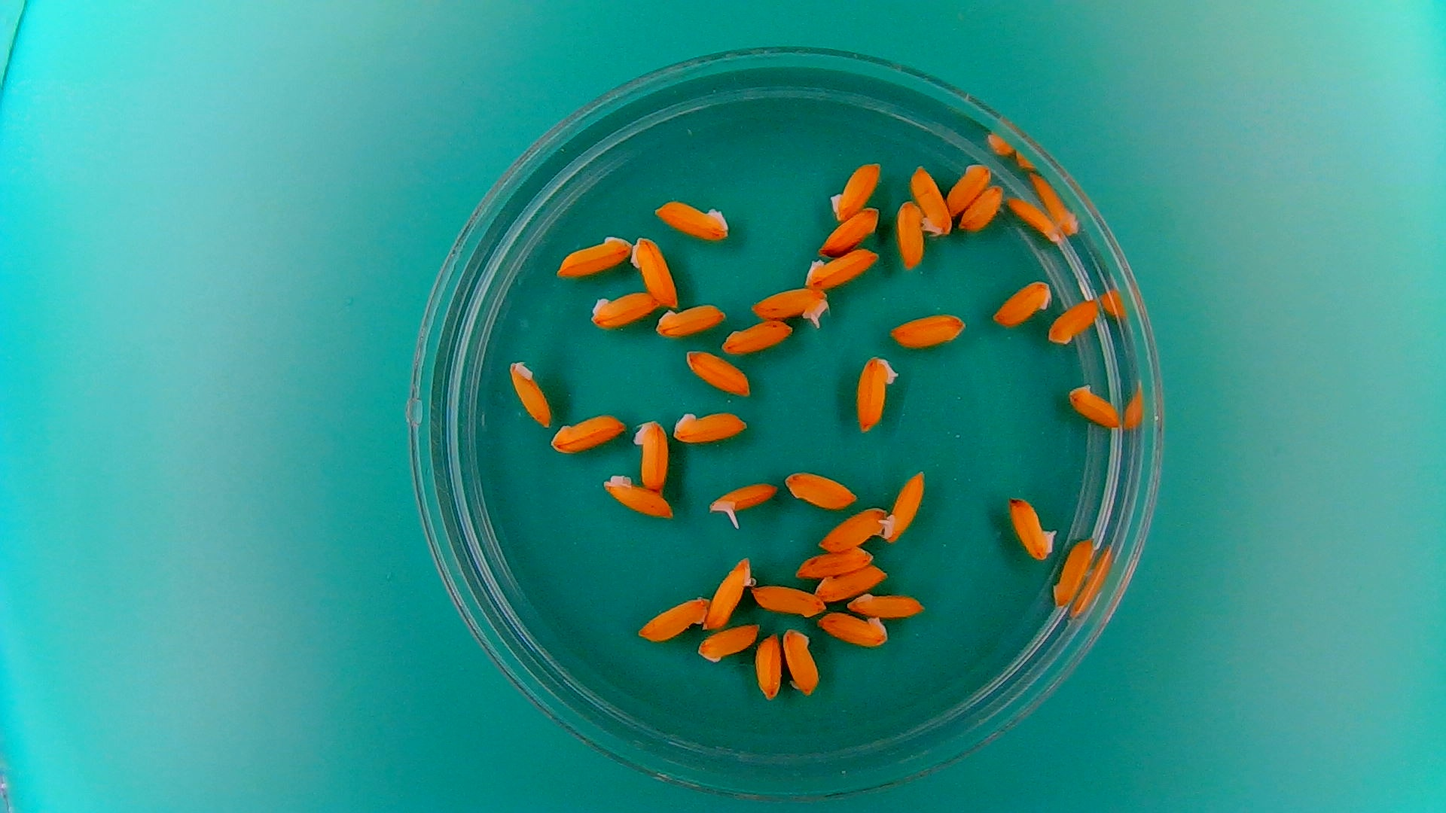no: (701, 553, 756, 632), (1004, 490, 1059, 562), (554, 230, 633, 280), (853, 350, 900, 434), (598, 470, 676, 520), (633, 592, 709, 643), (650, 195, 732, 242), (630, 233, 679, 309), (548, 410, 628, 455), (802, 245, 882, 290), (506, 355, 554, 429), (828, 157, 883, 221), (818, 504, 888, 554), (682, 347, 752, 397), (816, 203, 882, 255), (1051, 534, 1097, 608), (886, 309, 969, 350), (782, 467, 859, 510), (991, 276, 1054, 328), (908, 161, 951, 237), (669, 406, 752, 445), (1004, 192, 1065, 245), (812, 563, 890, 603), (631, 415, 670, 494), (587, 288, 660, 330), (792, 544, 877, 580), (699, 621, 764, 668), (748, 581, 827, 619), (653, 300, 729, 339), (781, 625, 822, 697), (1065, 379, 1124, 429), (719, 317, 795, 355), (1045, 294, 1100, 346), (815, 610, 890, 648), (944, 159, 993, 216), (847, 588, 927, 620), (957, 182, 1005, 233), (894, 196, 925, 271), (752, 630, 783, 700)
yes: (747, 282, 831, 329), (704, 477, 780, 528), (880, 466, 927, 545)
